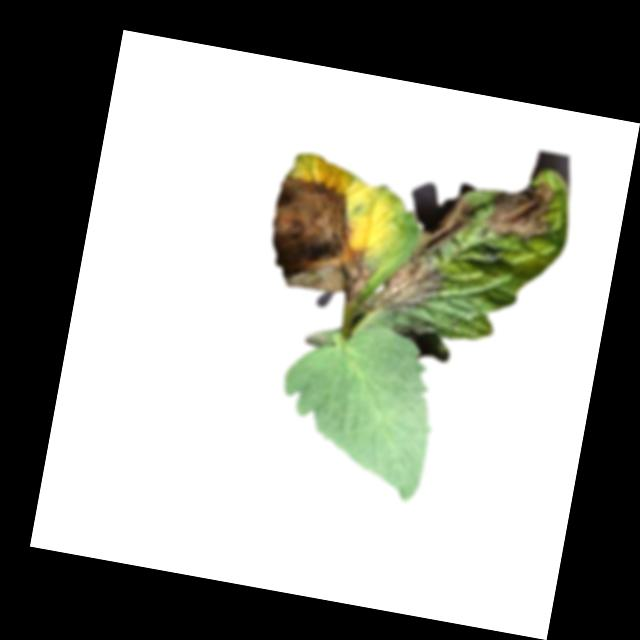Late_blight: (259, 171, 392, 311), (355, 179, 477, 327), (480, 171, 559, 246)
healthy: (265, 311, 449, 506)
